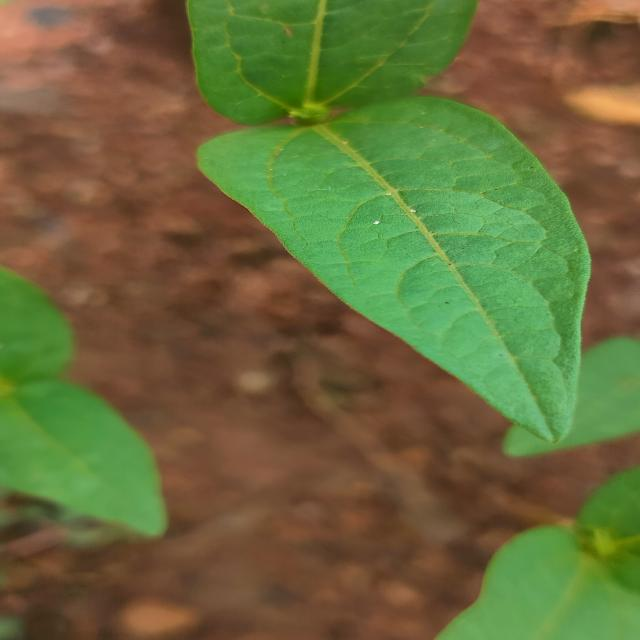Black gram_healthy: (205, 94, 584, 437)
